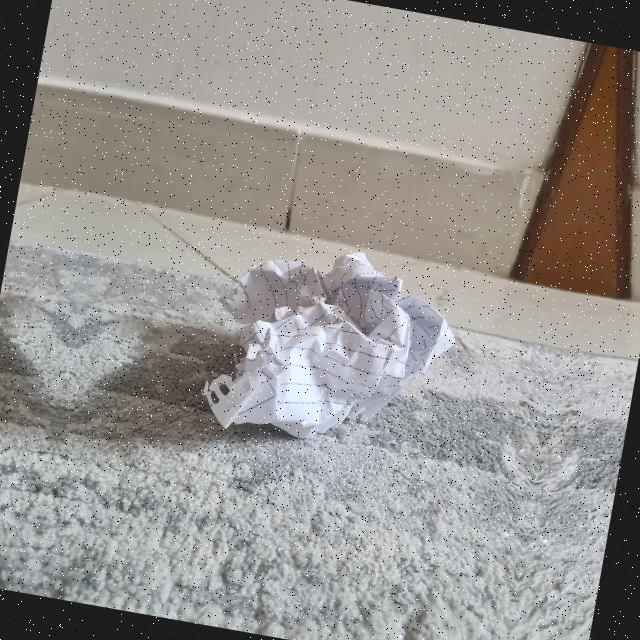paper: (195, 230, 455, 456)
